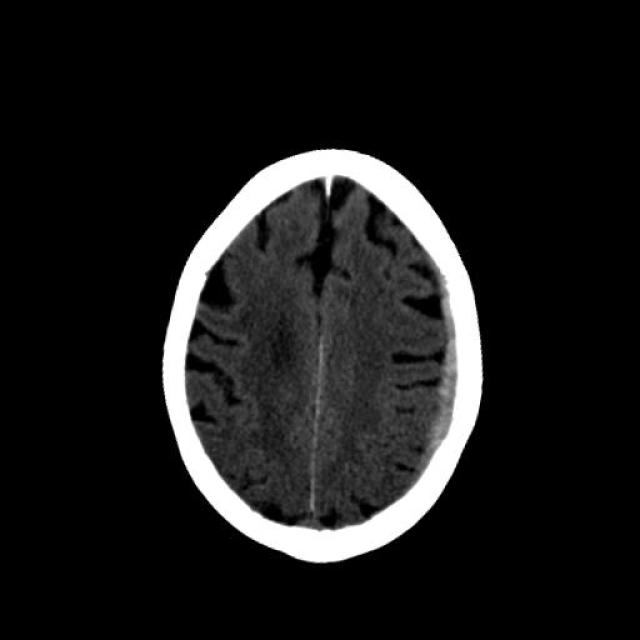Subdural: (382, 262, 494, 527)
